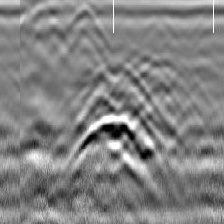Utility: (74, 106, 160, 172)
